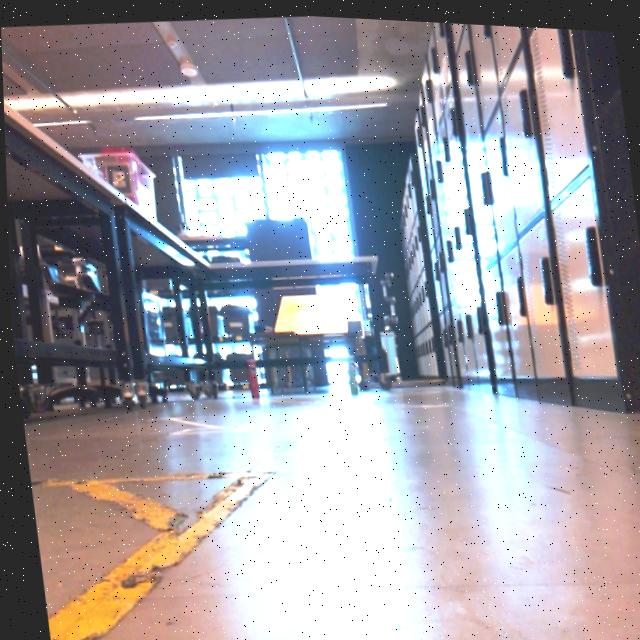greenpringles: (337, 347, 360, 395)
redpringles: (237, 347, 263, 416)
